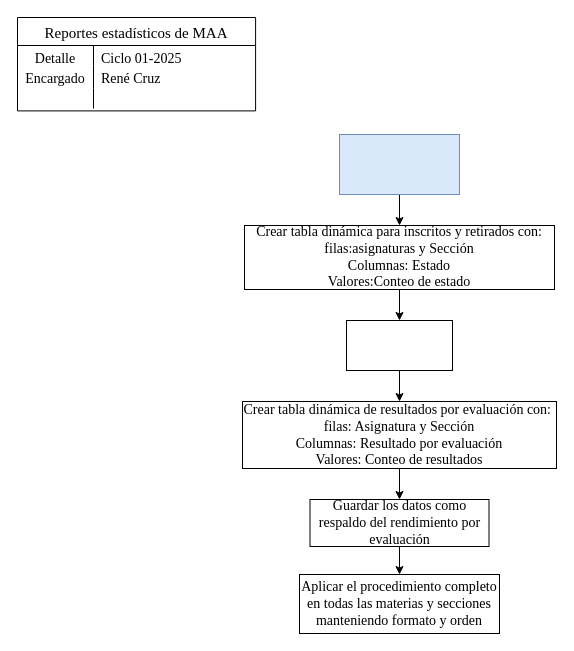
Some shapes in this 574 by 651 pixel diagram are drawn without their labels. The shapes that lost their labels are listed below. From the top down, each one's centre as x and y in pixels, then its label:
At point (399, 164): "Análisis mediante Tabla Dinámica".
At point (399, 345): "Guardar los datos para el reporte posterior".
